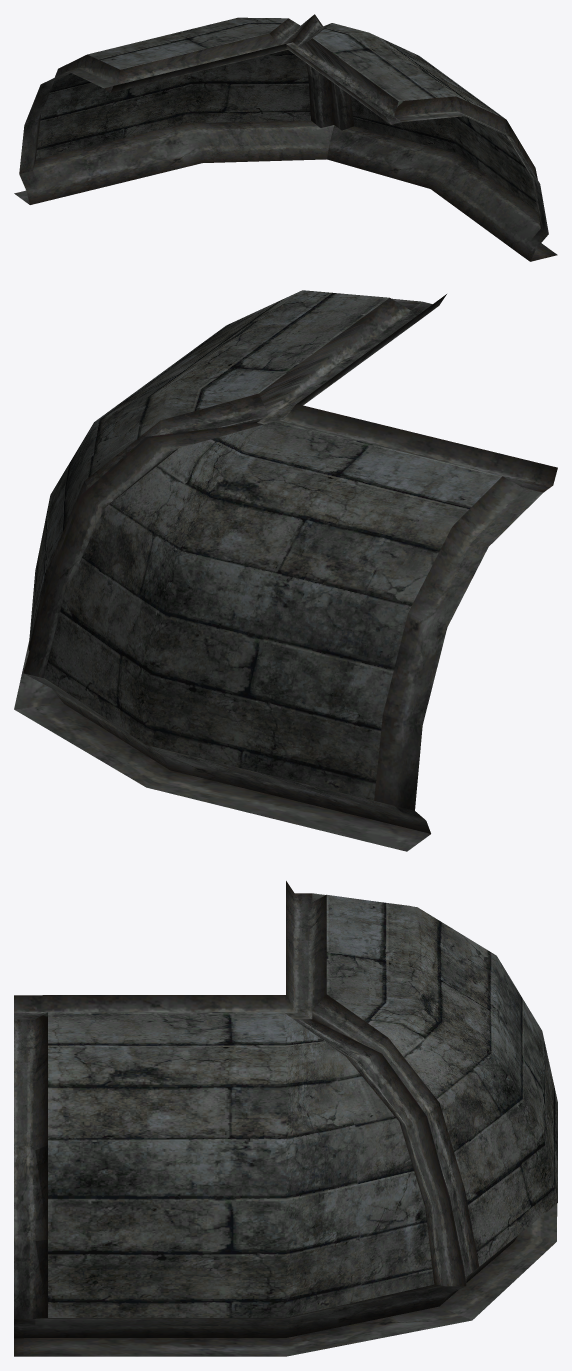
Rendered from corner_concave_round_flat.dae.
3 renders of one model, top to bottom at view 1: azimuth 30°, elevation 25°; view 2: azimuth 150°, elevation 25°; view 3: azimuth 270°, elevation 25°, orthographic. The views are drawn at different scales.
Parts seen in each view (by area): view 1: polySurface2, polySurface10; view 2: polySurface10, polySurface2; view 3: polySurface10, polySurface2.
Boxes of the visible parts, bbox=[...] form: polySurface2: bbox=[14, 14, 557, 261]; polySurface10: bbox=[35, 17, 537, 211]; polySurface10: bbox=[28, 290, 502, 800]; polySurface2: bbox=[14, 294, 557, 851]; polySurface10: bbox=[48, 895, 557, 1317]; polySurface2: bbox=[14, 881, 557, 1356].
Size of the model in its own units: 4 by 2 by 4.
